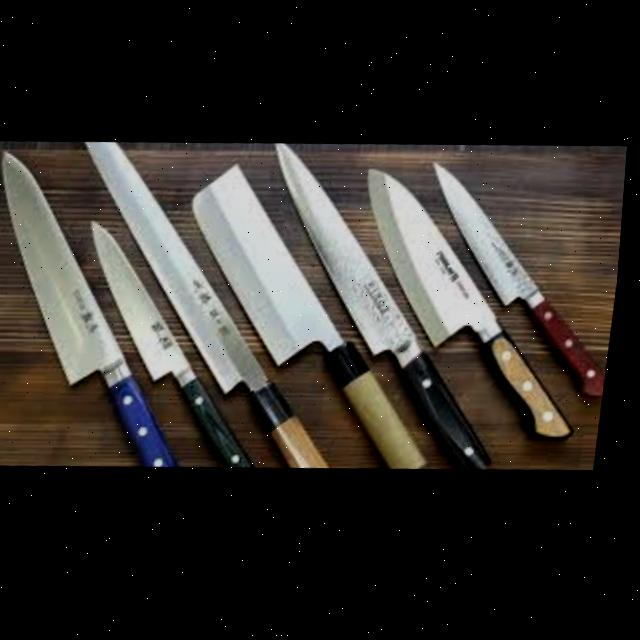Knife: (167, 154, 474, 483), (342, 163, 614, 454), (0, 142, 227, 476), (66, 214, 295, 478)
